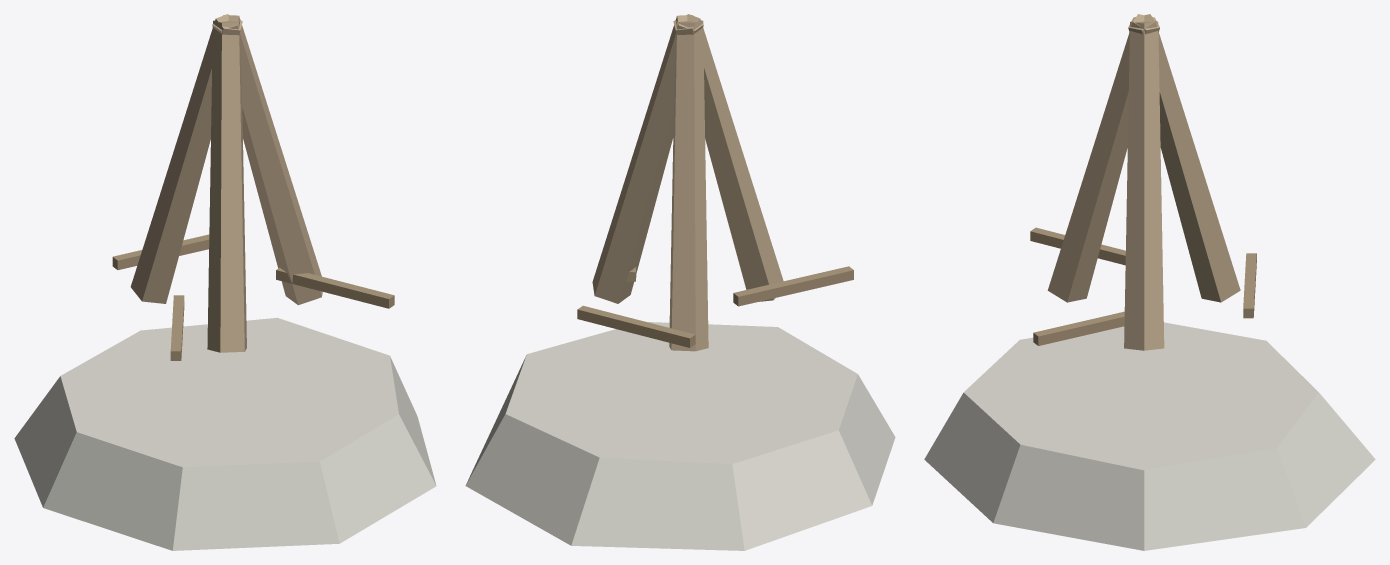
The model's file is tower-storm.glb.
The picture shows the model from 3 angles, left to right: view 1: azimuth 30°, elevation 25°; view 2: azimuth 150°, elevation 25°; view 3: azimuth 270°, elevation 25°; orthographic projection.
Parts seen in each view (by area): view 1: tower-storm; view 2: tower-storm; view 3: tower-storm.
Boxes of the visible parts, x1,y1,x2,y2 form: tower-storm: [14, 14, 436, 550]; tower-storm: [465, 14, 895, 550]; tower-storm: [924, 14, 1375, 550].
Size of the model in its own units: 2.03 by 2.3 by 2.13.
